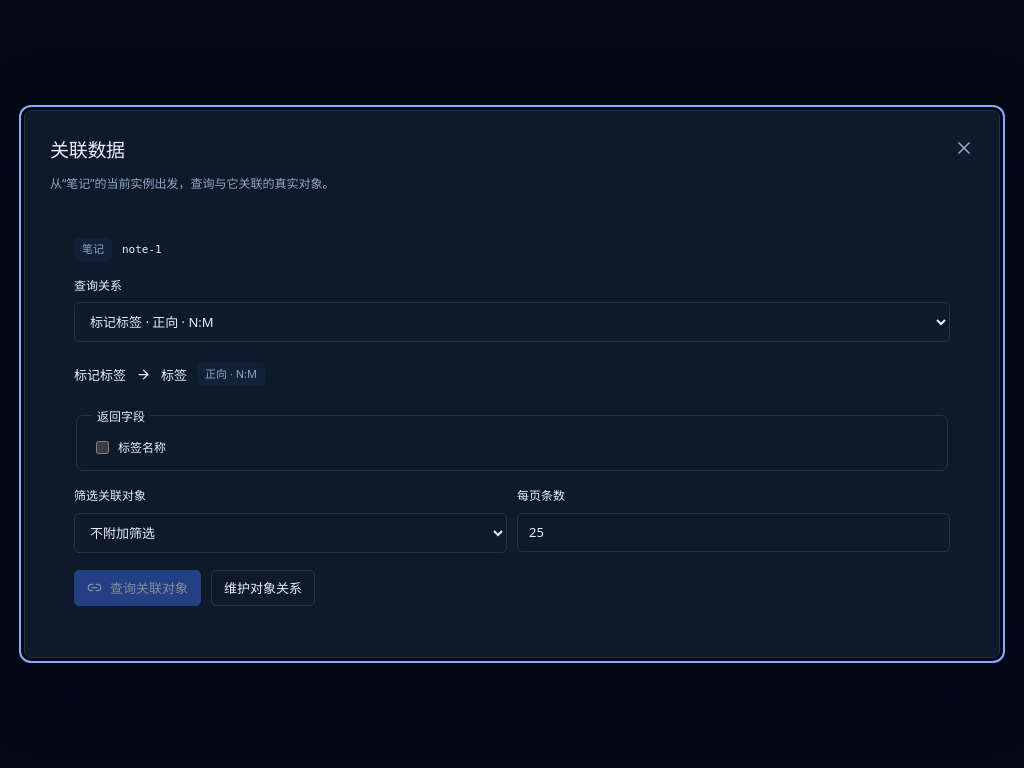
Test: 真实关联数据界面 › 按 Link 和方向查询，条件及投影作用于返回对象，续页复用已执行的关系查询
Click the checkbox named "关联字段：标签名称".
click(102, 447)  # box x1=96 y1=441 x2=109 y2=454
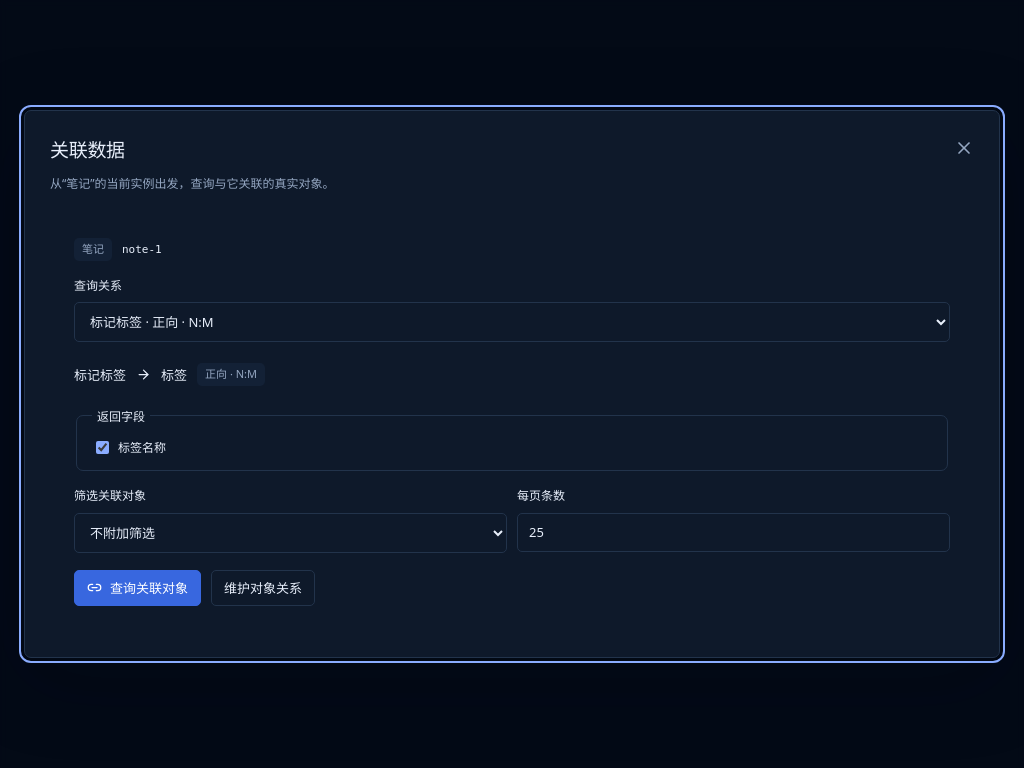
Select "标签名称" in the dropdown named "关联筛选属性" at (290, 532), box x1=74 y1=512 x2=507 y2=552
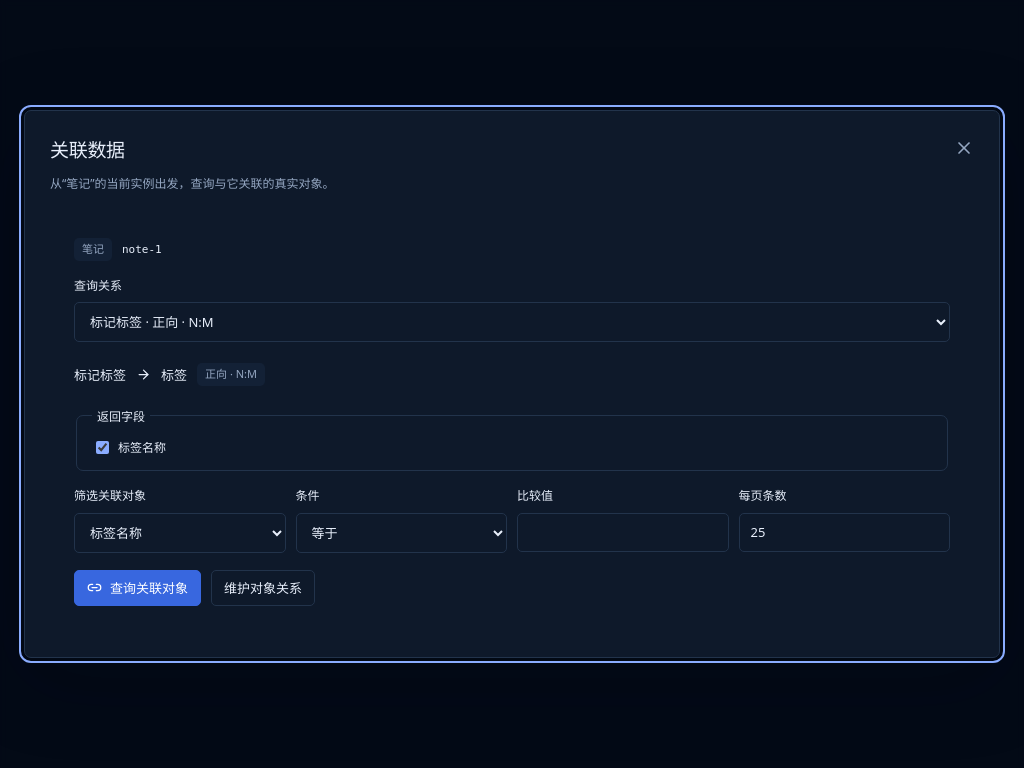
Type "知识图谱" into the field labelled "比较值".
click(623, 532); type("知识图谱")  # box x1=517 y1=512 x2=728 y2=552
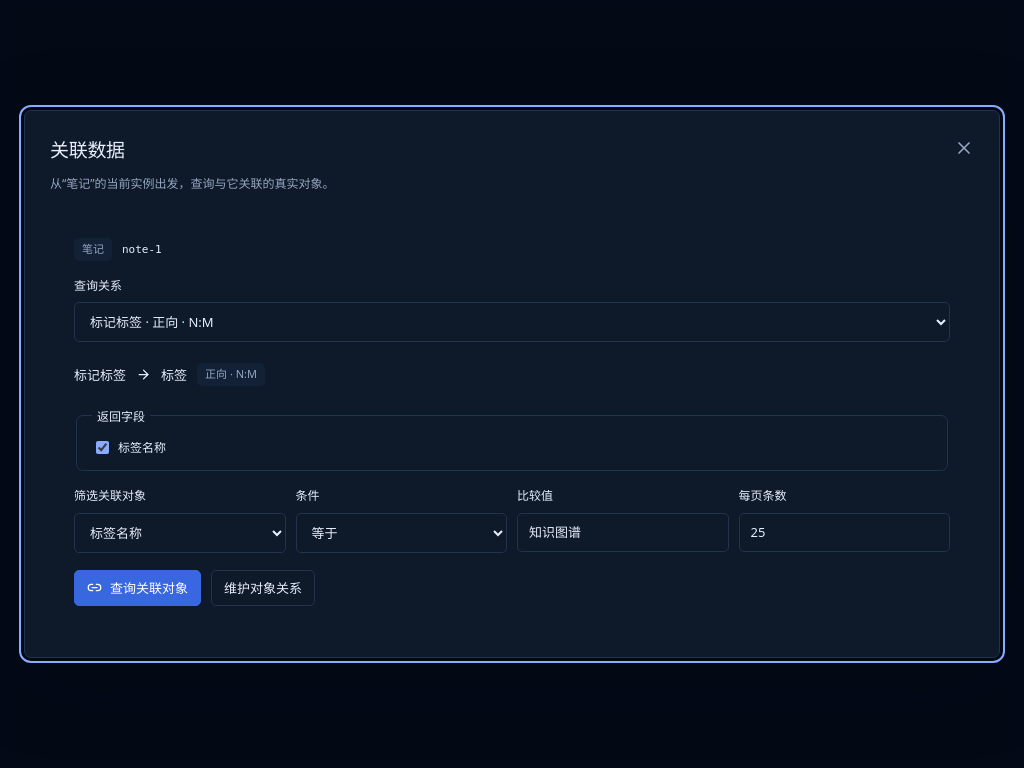
Click the button "查询关联对象".
click(138, 588)  # box x1=74 y1=570 x2=201 y2=606
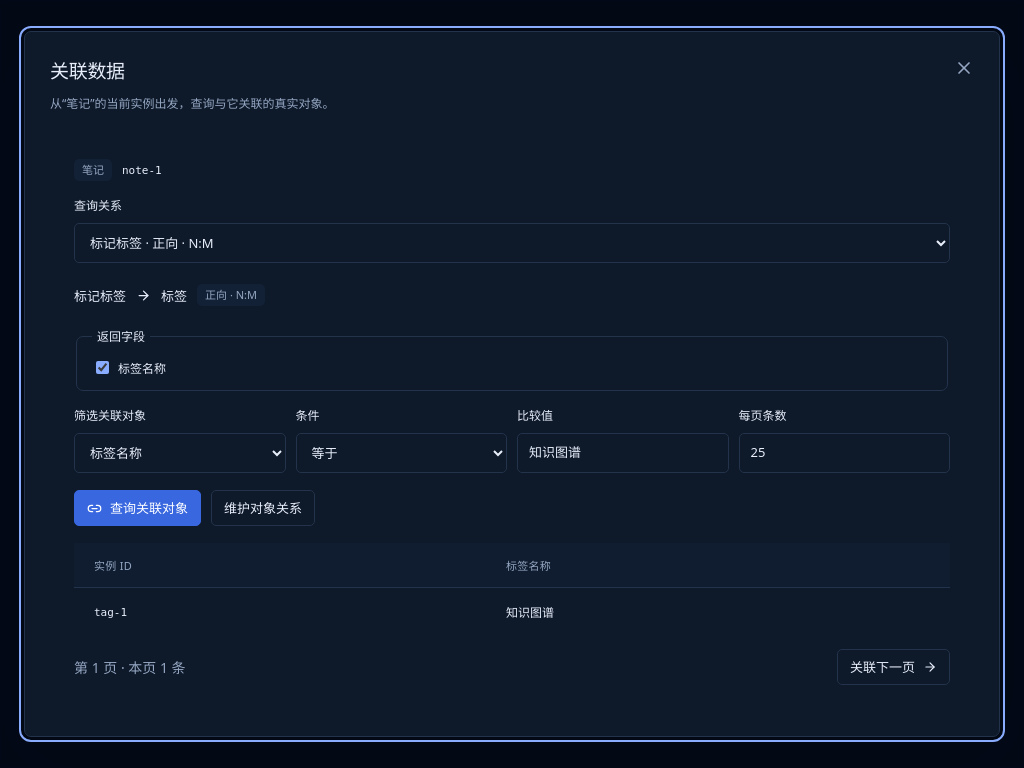
Check: the text "知识图谱" is shown, box x1=486 y1=588 x2=950 y2=636
Click the button "关联下一页".
click(894, 667)  # box x1=837 y1=649 x2=950 y2=685
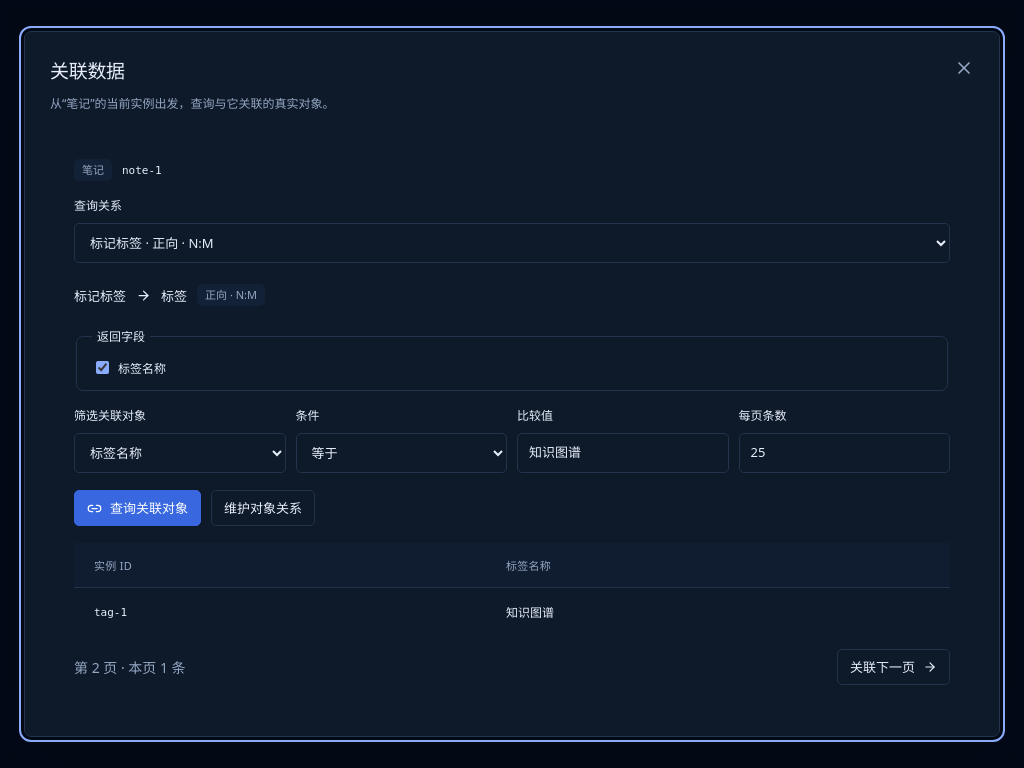
Replace the text in the number field named "关联每页条数" with "10" at (844, 453), box x1=738 y1=433 x2=950 y2=473
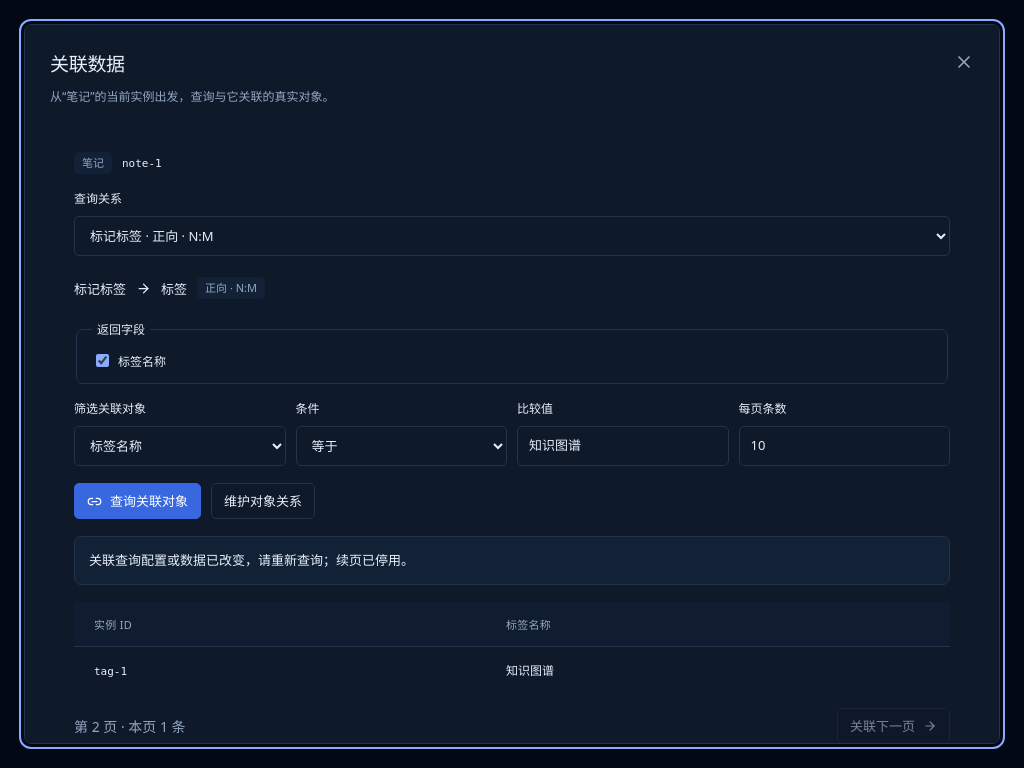
Check: the button "关联下一页" is disabled, box x1=837 y1=708 x2=950 y2=744
